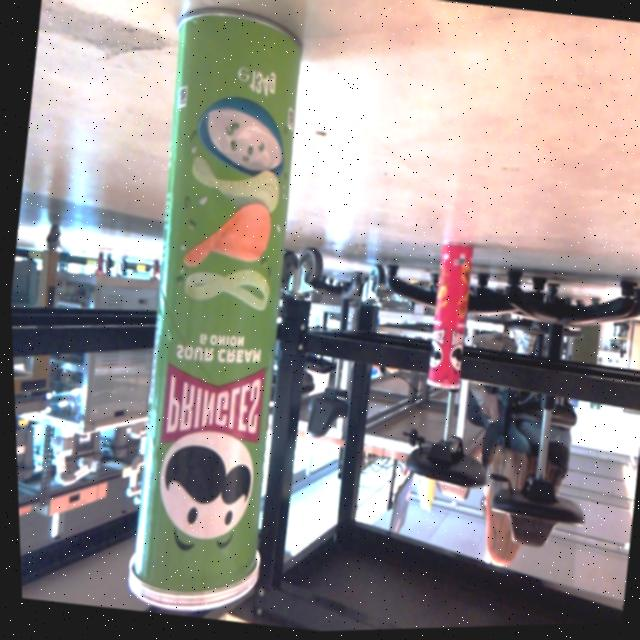greenpringles: (77, 0, 358, 632)
redpringles: (409, 238, 486, 405)
